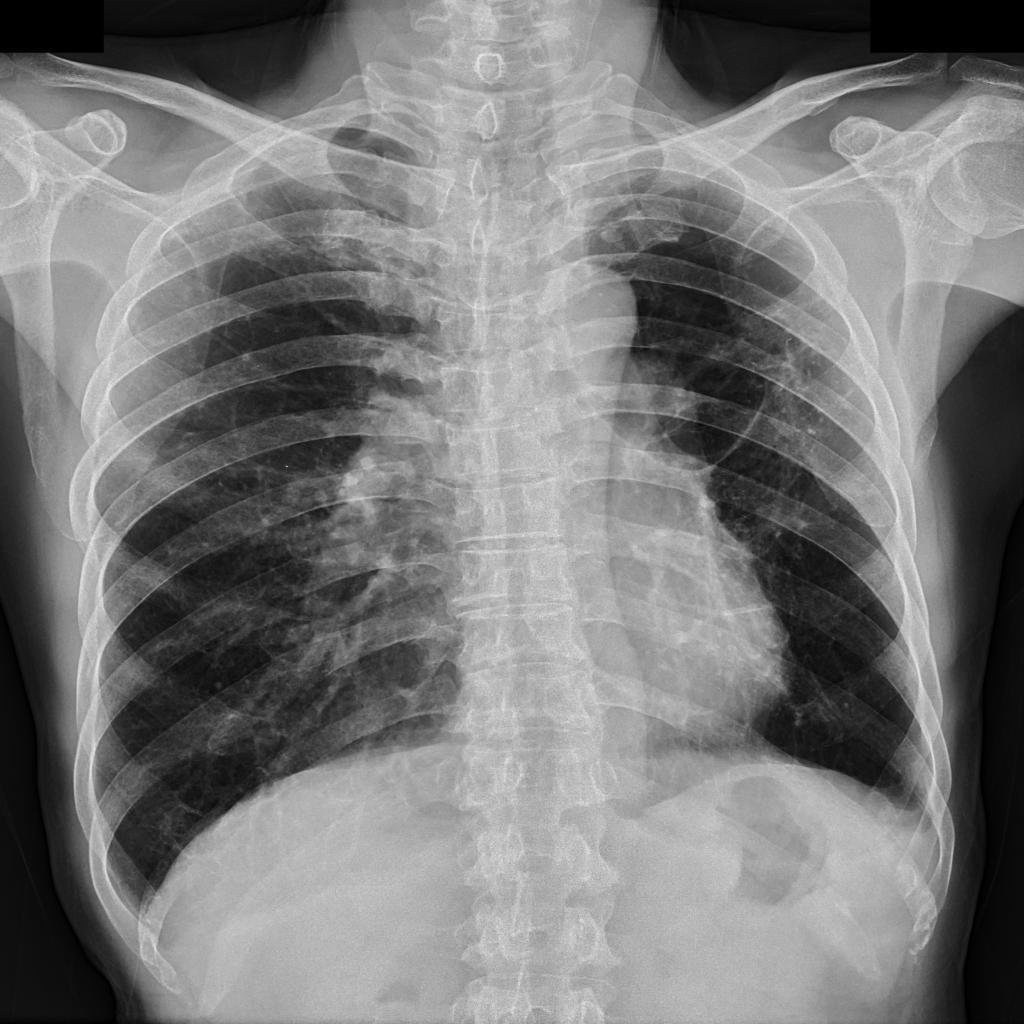Nodule: (202, 711, 280, 756)
